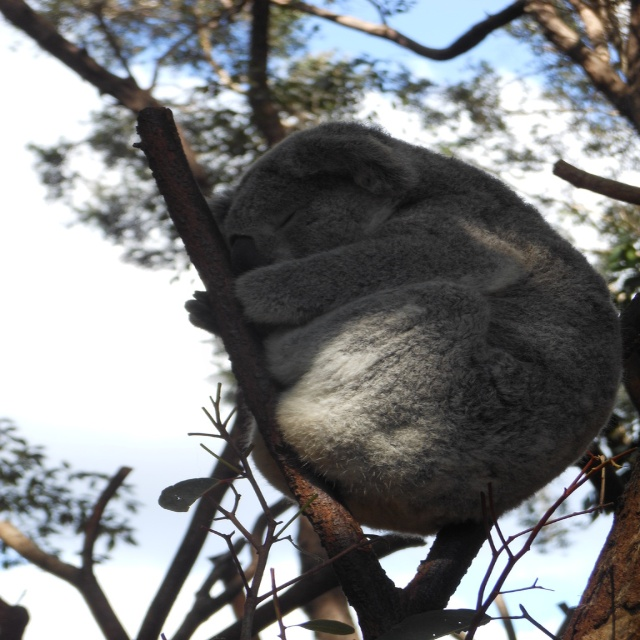Koala: (181, 117, 628, 537)
